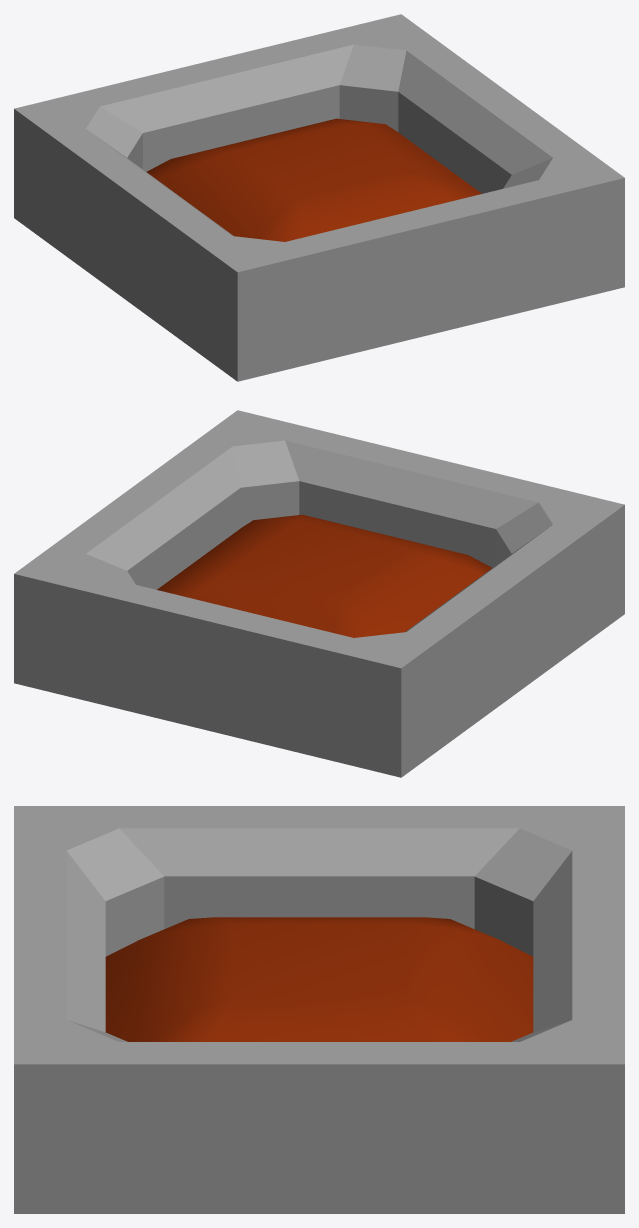
Rendered from Item_Slot_Red.fbx.
The picture shows the model from 3 angles, top to bottom: view 1: azimuth 30°, elevation 25°; view 2: azimuth 150°, elevation 25°; view 3: azimuth 270°, elevation 25°; orthographic projection. The views are drawn at different scales.
Visible parts, largest first — view 1: polySurface3; view 2: polySurface3; view 3: polySurface3.
Part boxes in pixels (box(x1,y1,x2,y2)): polySurface3: box(14, 14, 624, 381); polySurface3: box(14, 410, 624, 777); polySurface3: box(14, 806, 624, 1213).
Size of the model in its own units: 1 by 0.2699 by 1.
